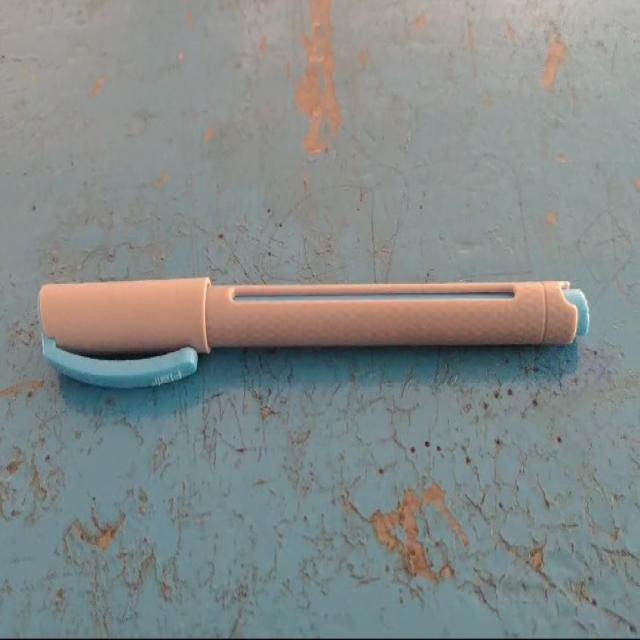pen: (28, 226, 613, 434)
